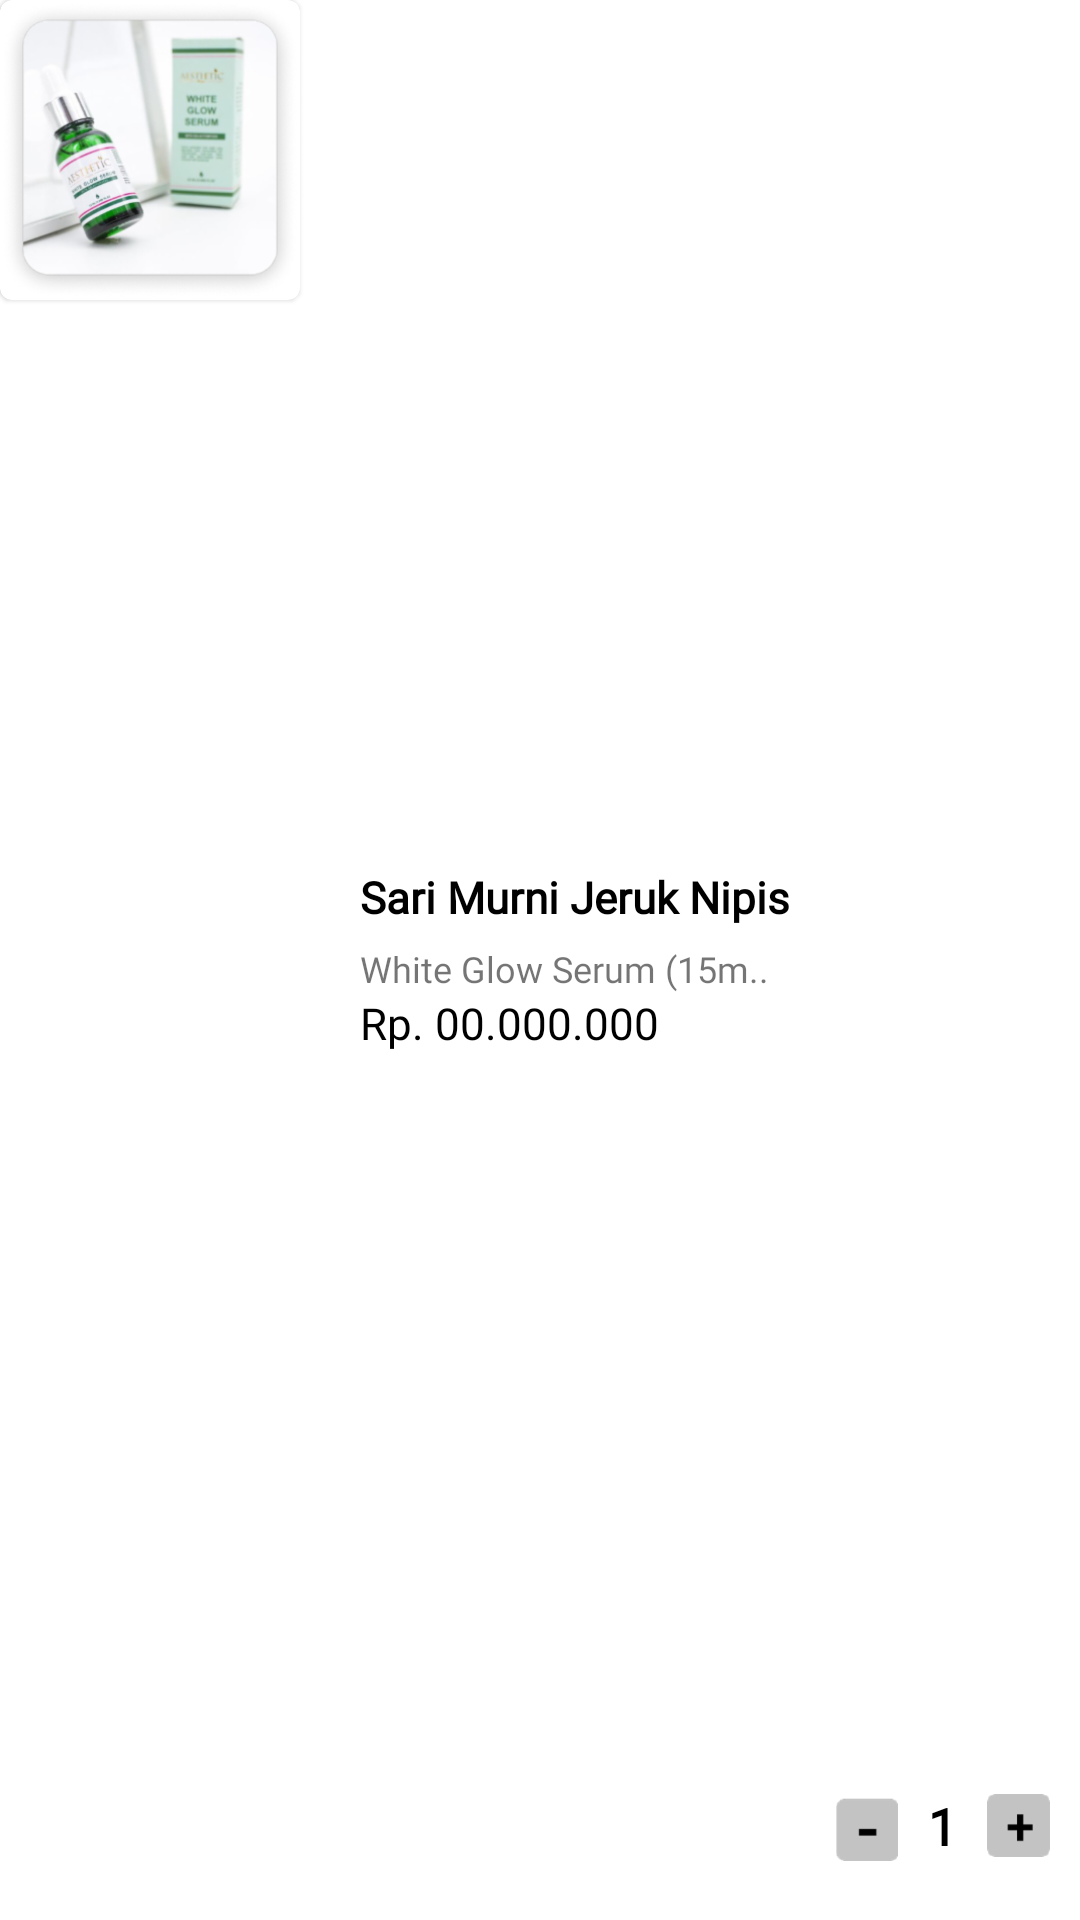

Where to tap for icons on this 1080 × 1920 app screen, as [x,y]:
imgminus: [867,1830]
imgplus: [1018,1825]
